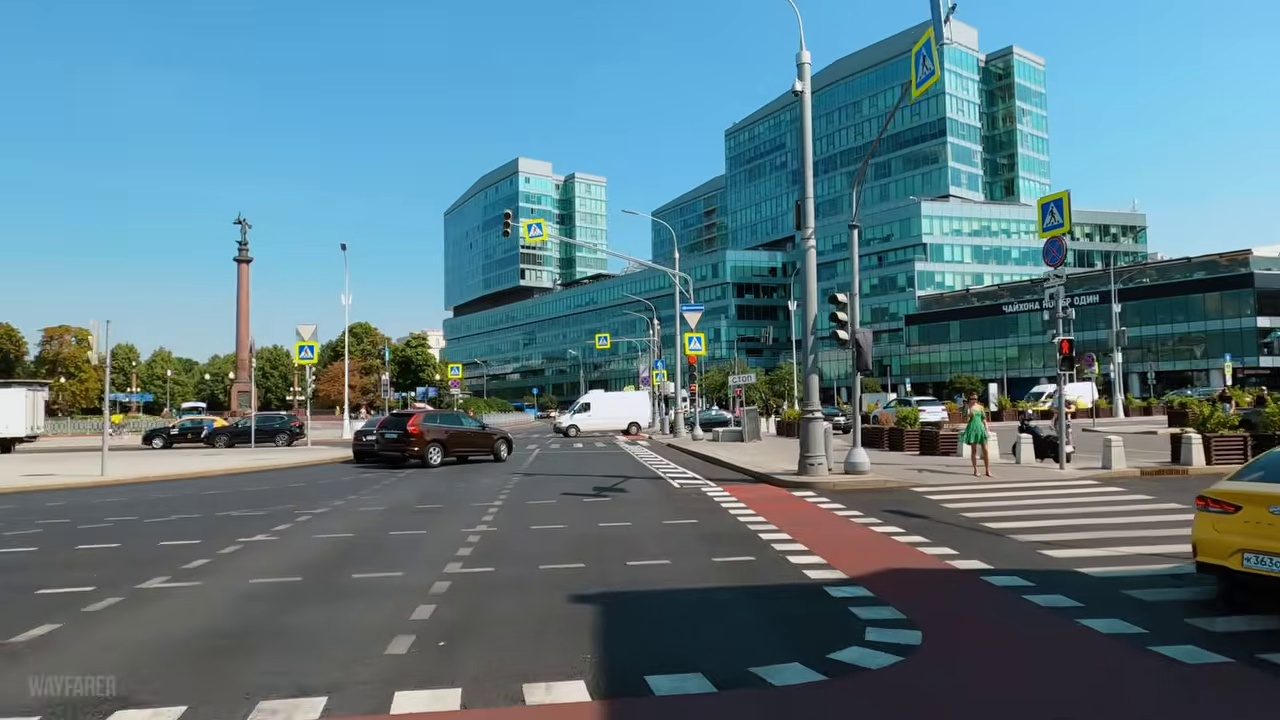apagada: (334, 236, 353, 256)
